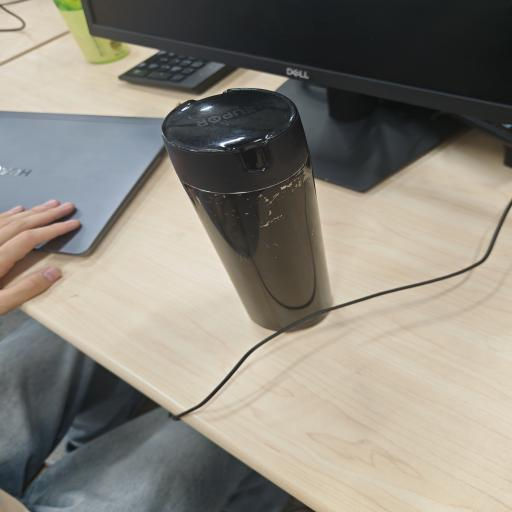laptop: (0, 112, 164, 255)
